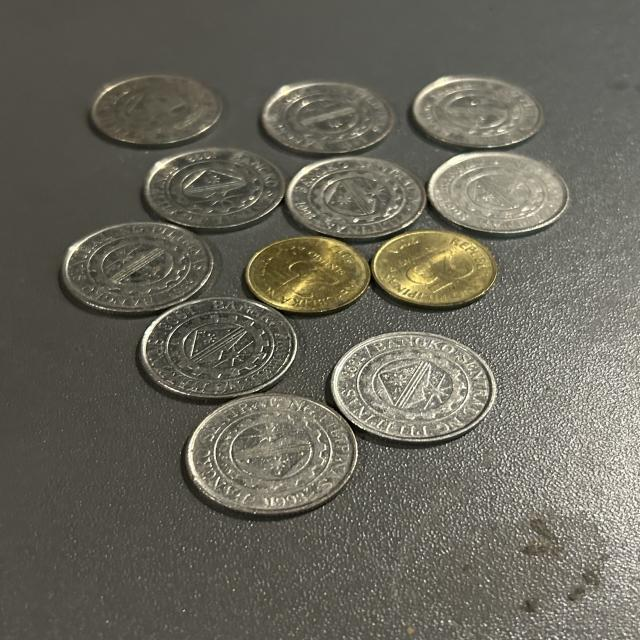1_Old_Back: (349, 330, 483, 437), (210, 410, 352, 495), (150, 300, 275, 390), (152, 156, 282, 222), (292, 164, 413, 230), (84, 230, 194, 302)
25Cent_New_Front: (374, 228, 486, 302), (260, 232, 352, 308)
